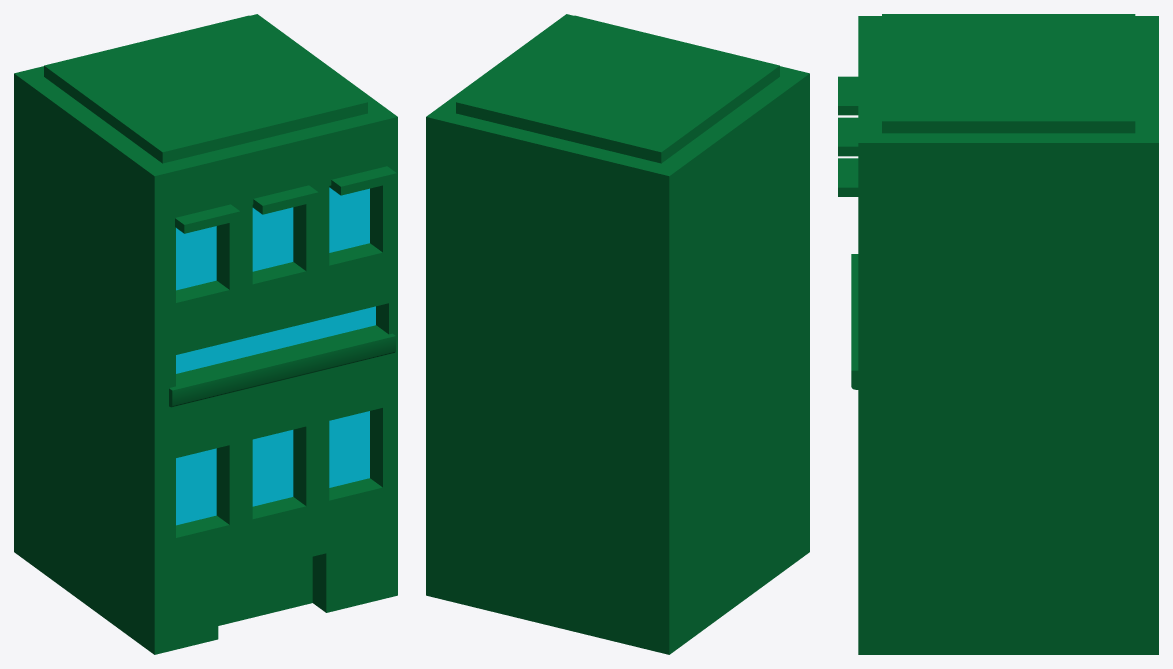
File: VRGJApartment3.fbx
3 views of the same model, side by side, from view 1: azimuth 30°, elevation 25°; view 2: azimuth 150°, elevation 25°; view 3: azimuth 270°, elevation 25° (orthographic). The views are drawn at different scales.
Parts seen in each view (by area): view 1: Aparment3; view 2: Aparment3; view 3: Aparment3.
Part boxes in pixels (x1=…): Aparment3: x1=14, y1=14, x2=397, y2=654; Aparment3: x1=426, y1=14, x2=809, y2=654; Aparment3: x1=838, y1=14, x2=1158, y2=654.
Bounding box in the file's own units: 1000 × 1923 × 1068.
